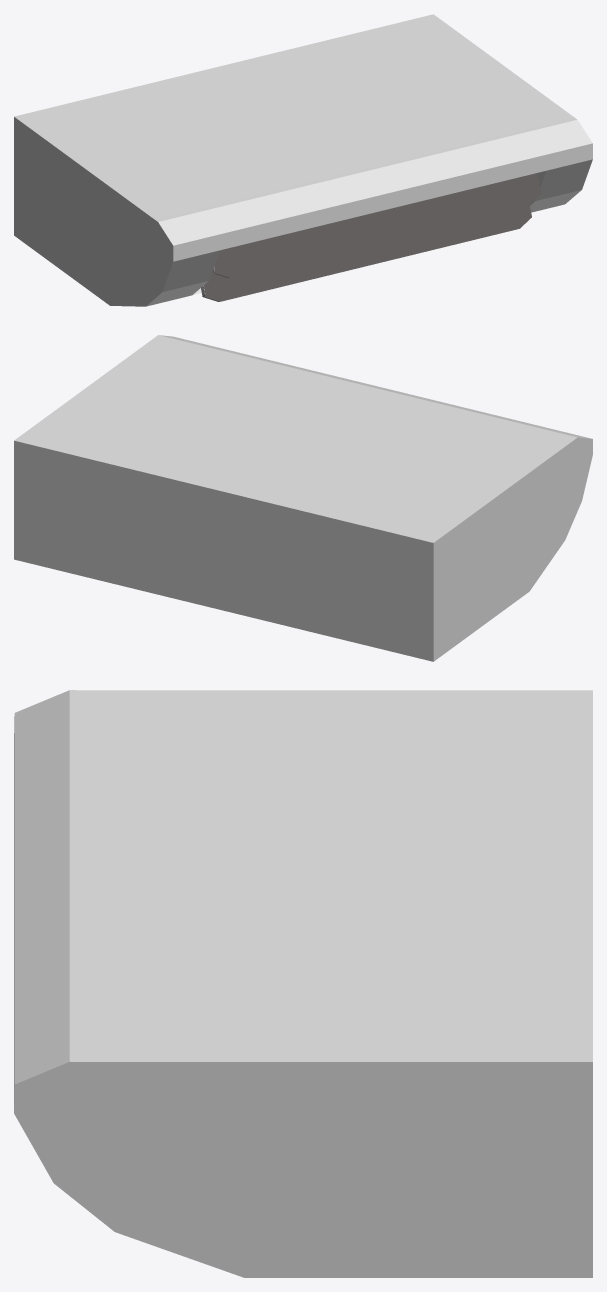
Rendered from Ar Condicionado.fbx.
3 renders of one model, top to bottom at view 1: azimuth 30°, elevation 25°; view 2: azimuth 150°, elevation 25°; view 3: azimuth 270°, elevation 25°, orthographic. The views are drawn at different scales.
Visible parts, largest first — view 1: Ar condicionado; view 2: Ar condicionado; view 3: Ar condicionado.
Part boxes in pixels (x1=…): Ar condicionado: x1=14, y1=14, x2=592, y2=306; Ar condicionado: x1=14, y1=335, x2=592, y2=661; Ar condicionado: x1=14, y1=690, x2=592, y2=1277.
Size of the model in its own units: 230 by 62.34 by 151.
